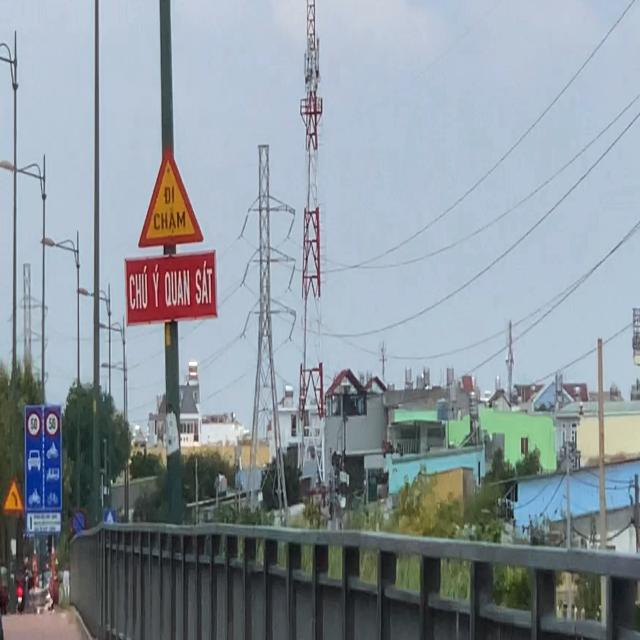Nguy hiem: (137, 142, 205, 250), (3, 478, 24, 513)
Toc do toi da: (44, 410, 60, 438), (26, 411, 42, 437)
